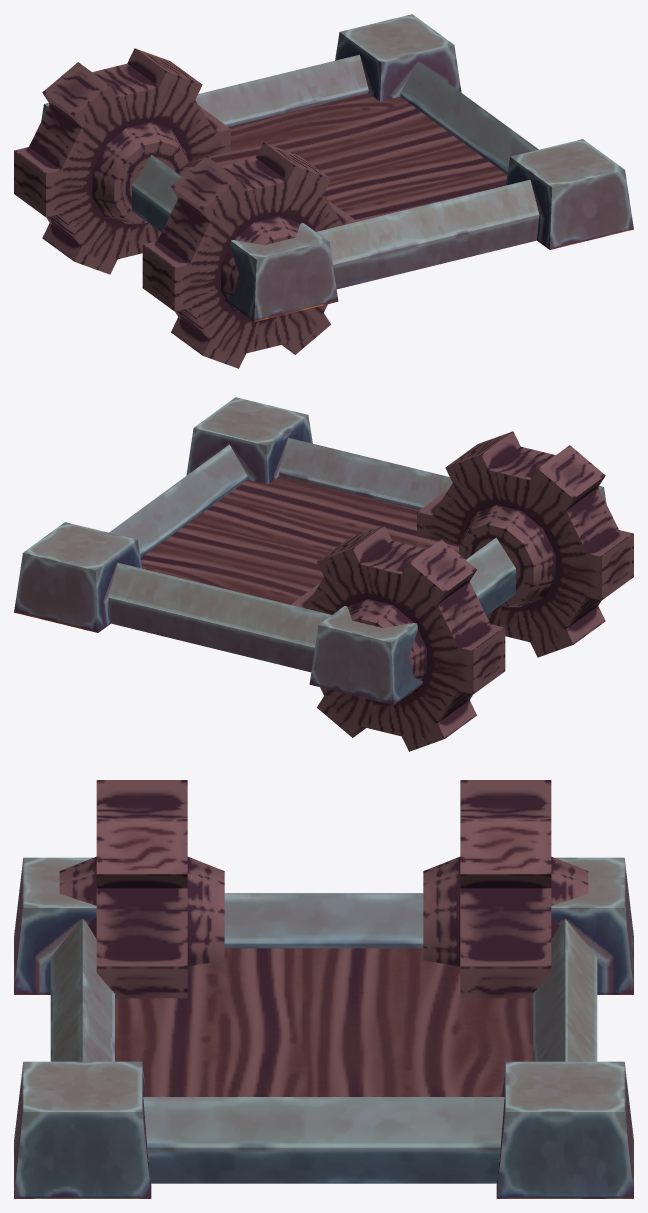
The model's file is SM_WheelPlate.fbx.
3 views of the same model, one above another, from view 1: azimuth 30°, elevation 25°; view 2: azimuth 150°, elevation 25°; view 3: azimuth 270°, elevation 25° (orthographic). The views are drawn at different scales.
Parts seen in each view (by area): view 1: SM_WheelNumberPlate1, SM_WheelNumberCog1; view 2: SM_WheelNumberPlate1, SM_WheelNumberCog1; view 3: SM_WheelNumberPlate1, SM_WheelNumberCog1.
Boxes of the visible parts, x1,y1,x2,y2 form: SM_WheelNumberPlate1: (41,14,633,321); SM_WheelNumberCog1: (14,48,357,368); SM_WheelNumberPlate1: (14,397,606,704); SM_WheelNumberCog1: (290,431,633,751); SM_WheelNumberPlate1: (14,857,633,1198); SM_WheelNumberCog1: (59,780,588,998).
Size of the model in its own units: 218 by 91.76 by 193.
1 material, 1 textured.
